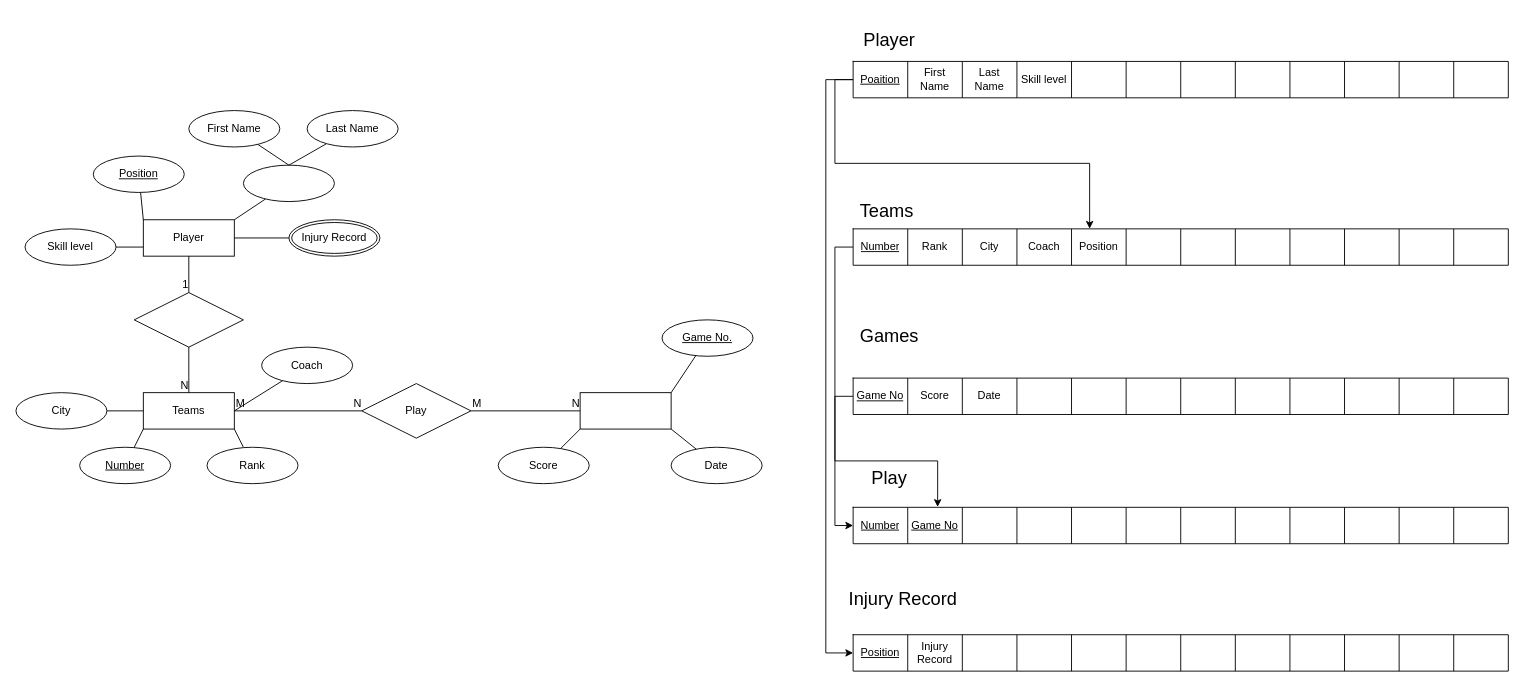
The diagram is 1524 pixels wide and 687 high, and some of its shapes have lost their labels. Each missing label, with the centre of its shape:
"Game" goes at point 625,410.
"Name" goes at point 288,183.
"Played as" goes at point 188,319.
